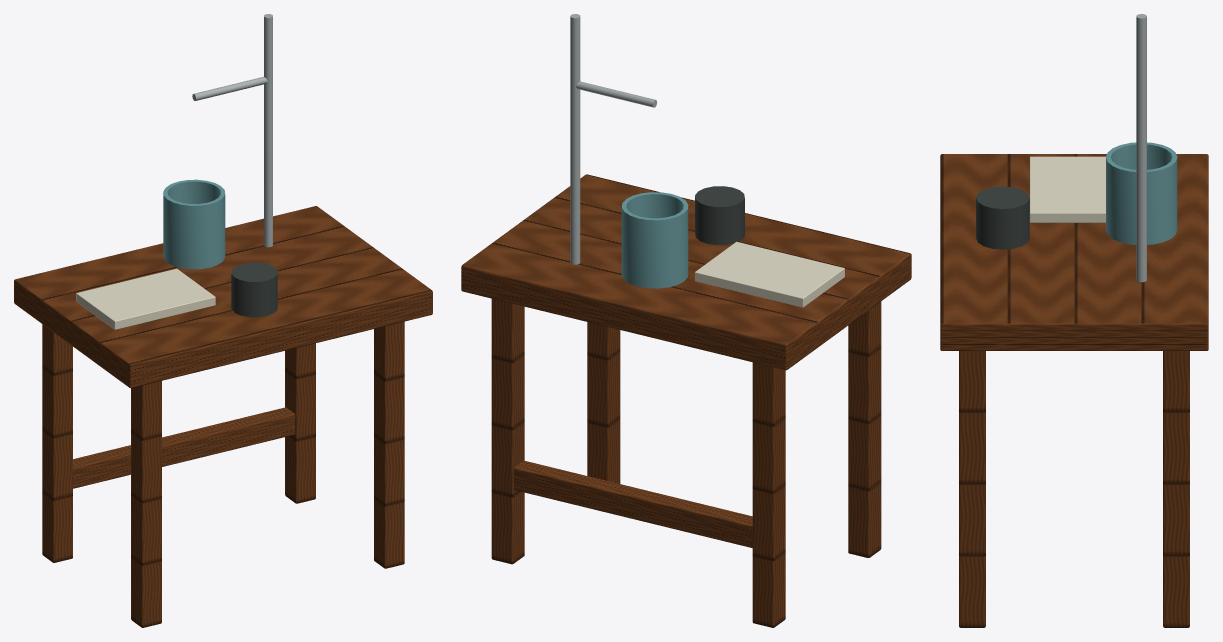
Rendered from research-and-crafting-progression-chemistry-test-stand-7be8c6ff__2840.glb.
3 renders of one model, left to right at view 1: azimuth 30°, elevation 25°; view 2: azimuth 150°, elevation 25°; view 3: azimuth 270°, elevation 25°, orthographic. The views are drawn at different scales.
Parts seen in each view (by area): view 1: chemistry-test-stand; view 2: chemistry-test-stand; view 3: chemistry-test-stand.
Part boxes in pixels (x1,y1,x2,y2): chemistry-test-stand: [14, 14, 432, 627]; chemistry-test-stand: [461, 14, 911, 627]; chemistry-test-stand: [940, 14, 1208, 627].
Size of the model in its own units: 0.9 by 1.43 by 0.6.
Materials: 5 (1 with a texture image).
